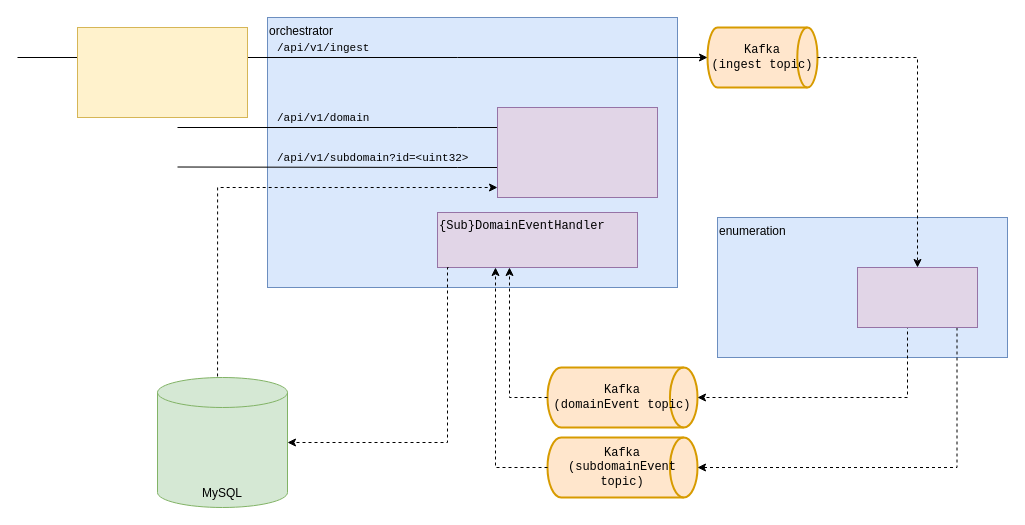
Some shapes in this 1025 by 525 pixel diagram are drawn without their labels. Each missing label, with the centre of its shape:
Get{Sub}DomainHandler: point (577, 152)
IngestDto { "id": null | uint32, "domain": string }: point (162, 72)
IngestHandler: point (917, 297)
